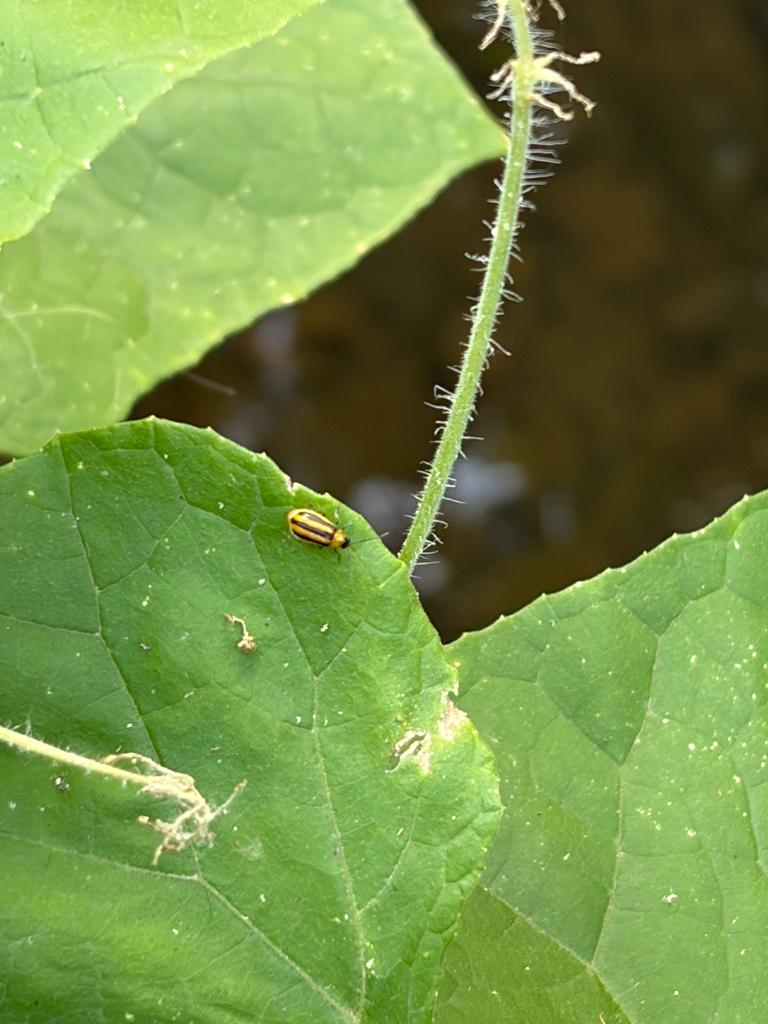potato_beetle: (270, 487, 366, 574)
